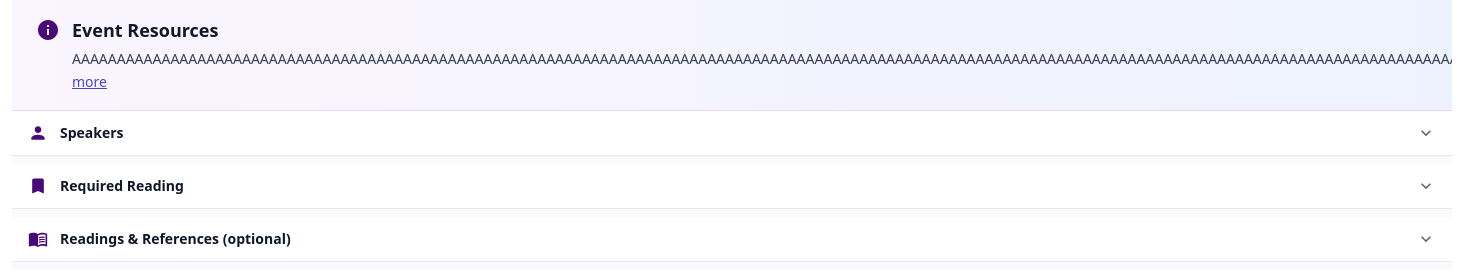
Test: ResourcesPanel › header / event info › expands truncated eventDescription on 'more' click and shows 'less'
Click the button "more" at point(90, 82), box [72,71,107,94]
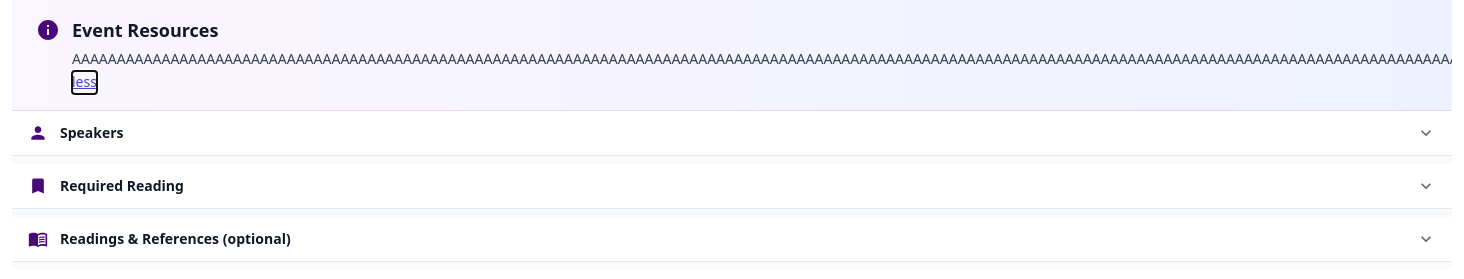
Now the button "less" is shown, box [72,71,97,94]
Now the button "more" is gone
